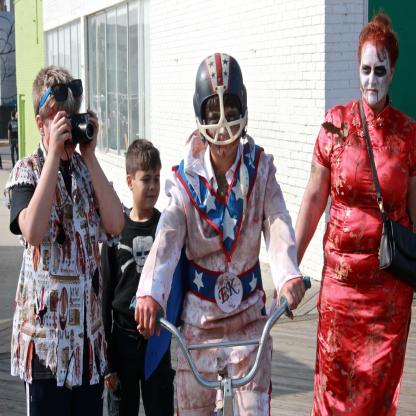Helmet: (195, 57, 251, 146)
